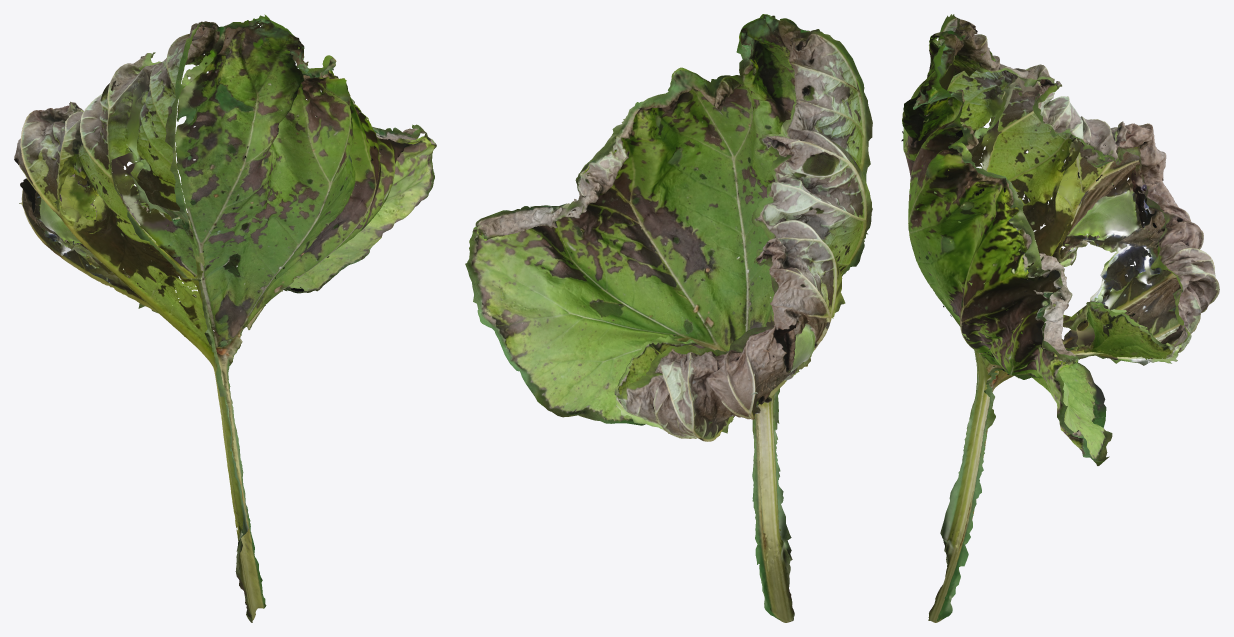
File: leaf_scan.glb
The picture shows the model from 3 angles, left to right: view 1: azimuth 30°, elevation 25°; view 2: azimuth 150°, elevation 25°; view 3: azimuth 270°, elevation 25°; orthographic projection. The views are drawn at different scales.
Parts seen in each view (by area): view 1: Model; view 2: Model; view 3: Model.
Part boxes in pixels (box(x1,y1,x2,y2)): Model: box(14, 14, 436, 622); Model: box(465, 14, 872, 622); Model: box(901, 14, 1219, 622).
Bounding box in the file's own units: 0.3924 × 0.5916 × 0.2905.
Materials: 2 (2 with a texture image).
